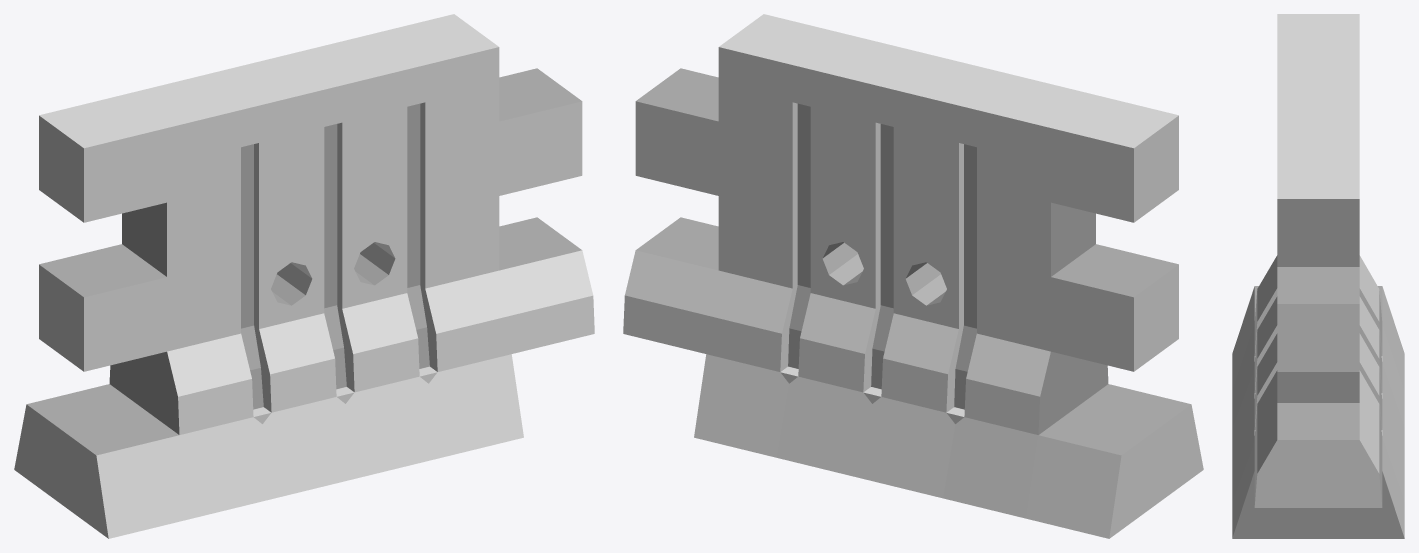
File: White_FireWall.fbx
3 views of the same model, side by side, from view 1: azimuth 30°, elevation 25°; view 2: azimuth 150°, elevation 25°; view 3: azimuth 270°, elevation 25° (orthographic). The views are drawn at different scales.
Parts seen in each view (by area): view 1: Cube; view 2: Cube; view 3: Cube.
Boxes of the visible parts, <box> form: Cube: <box>14,14,594,538</box>; Cube: <box>623,14,1203,538</box>; Cube: <box>1232,14,1404,538</box>.
Bounding box in the file's own units: 140 × 100 × 45.99.
